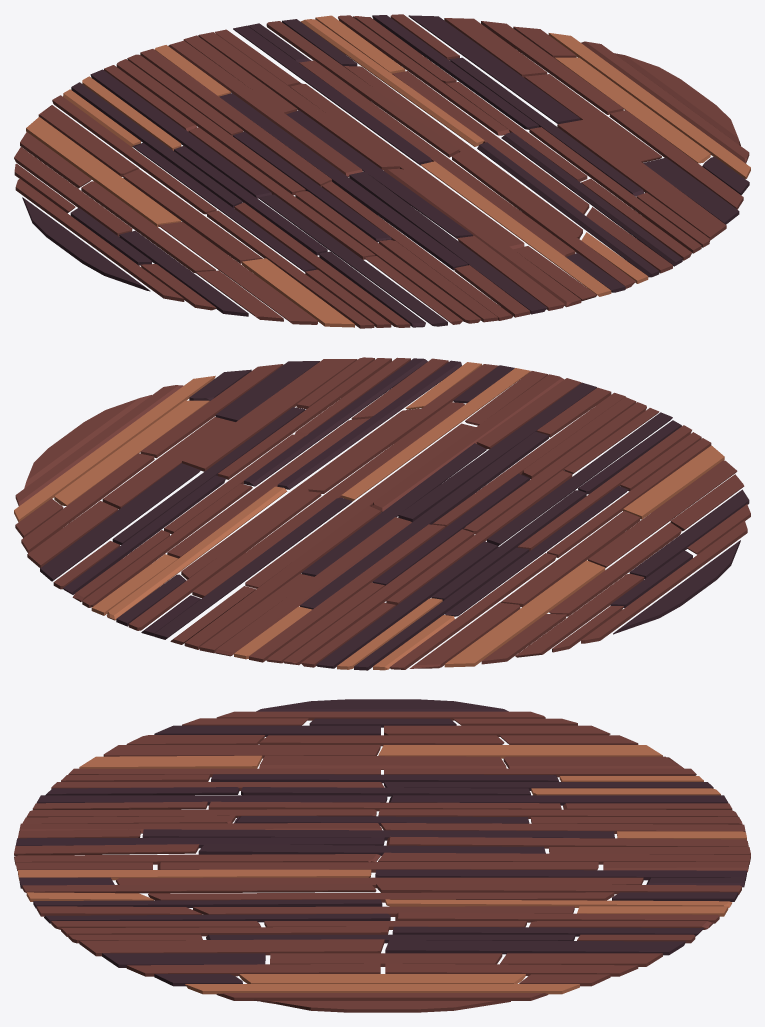
Rendered from Ork Teent Floor 01.fbx.
3 renders of one model, top to bottom at view 1: azimuth 30°, elevation 25°; view 2: azimuth 150°, elevation 25°; view 3: azimuth 270°, elevation 25°, orthographic.
Visible parts, largest first — view 1: Ork Teent Floor 01; view 2: Ork Teent Floor 01; view 3: Ork Teent Floor 01.
Part boxes in pixels (left/top/right/bottom): Ork Teent Floor 01: left=14, top=14, right=750, bottom=328; Ork Teent Floor 01: left=14, top=357, right=750, bottom=670; Ork Teent Floor 01: left=14, top=699, right=750, bottom=1012.
Size of the model in its own units: 1558 by 16.09 by 1566.
